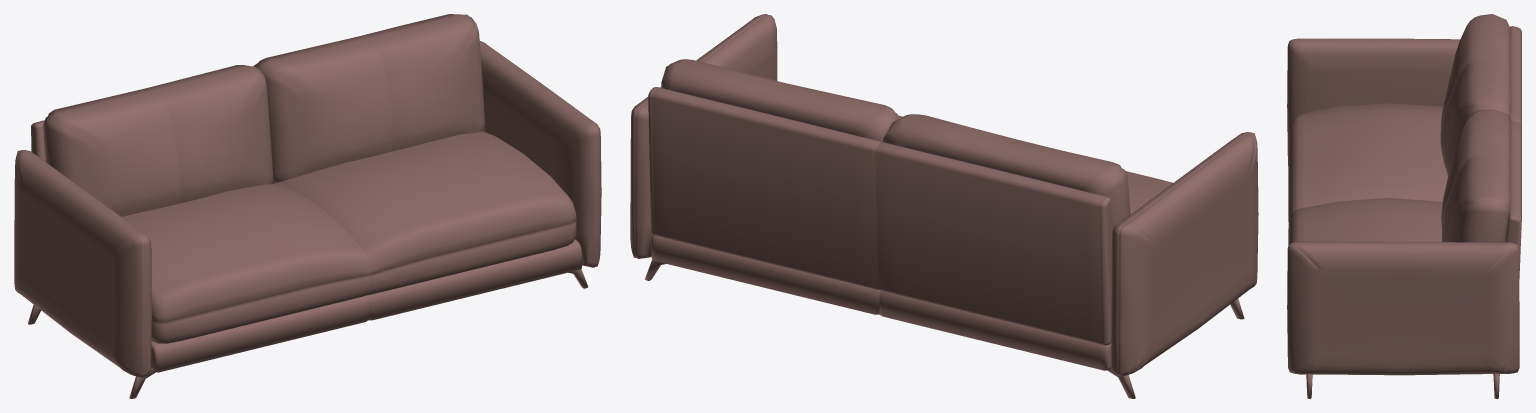
The model's file is leather_couch_light_brown.glb.
3 views of the same model, side by side, from view 1: azimuth 30°, elevation 25°; view 2: azimuth 150°, elevation 25°; view 3: azimuth 270°, elevation 25° (orthographic). The views are drawn at different scales.
Parts seen in each view (by area): view 1: Cube; view 2: Cube; view 3: Cube.
Part boxes in pixels (box(x1,y1,x2,y2)): Cube: box(14, 14, 601, 398); Cube: box(630, 14, 1258, 398); Cube: box(1287, 14, 1521, 398).
Bounding box in the file's own units: 2.02 × 0.8252 × 0.9244.
